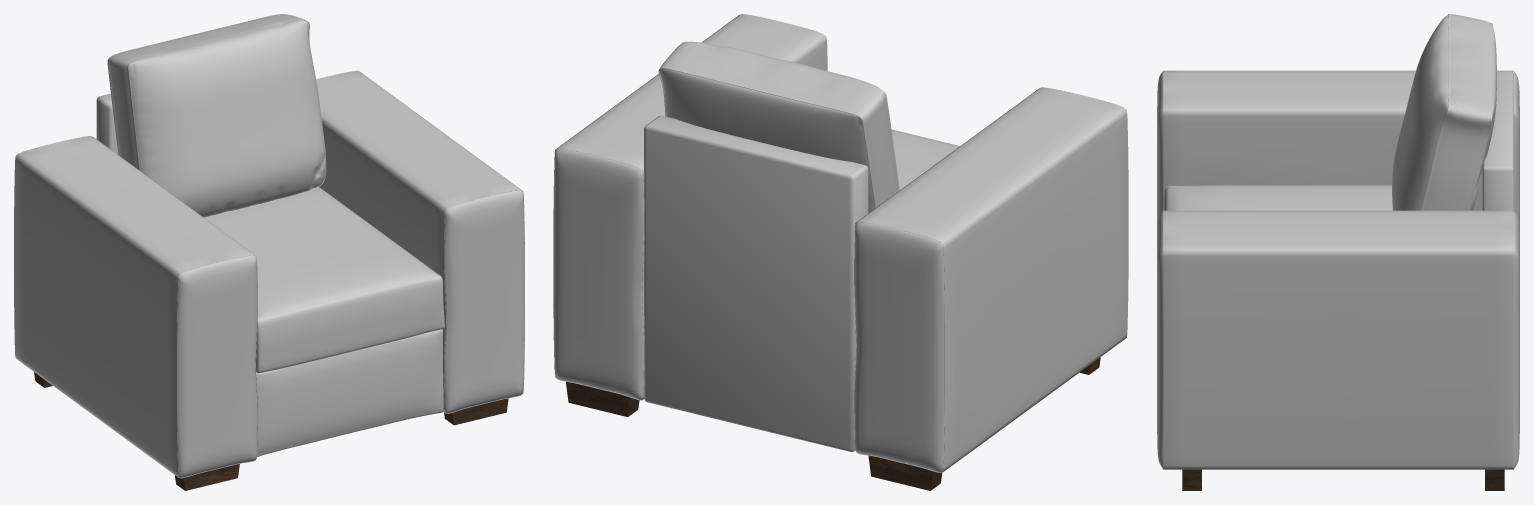
Rendered from Tapicerk_i_krzesla_fotel_lars.obj.
3 views of the same model, side by side, from view 1: azimuth 30°, elevation 25°; view 2: azimuth 150°, elevation 25°; view 3: azimuth 270°, elevation 25° (orthographic). The views are drawn at different scales.
Visible parts, largest first — view 1: Object011, Object002, Plane003, Object006, Box006, Box02, ChamferBox02; view 2: Object011, ChamferBox02, Object002, Plane003, Box02, Object006; view 3: Object002, Object011, Plane003, Object006, ChamferBox02, Box02.
Boxes of the visible parts, x1,y1,x2,y2 form: Object011: [14, 136, 257, 478]; Object002: [316, 70, 524, 413]; Plane003: [107, 14, 326, 217]; Object006: [204, 187, 444, 373]; Box006: [256, 329, 443, 456]; Box02: [34, 372, 508, 490]; ChamferBox02: [96, 93, 118, 154]; Object011: [854, 87, 1128, 472]; ChamferBox02: [644, 115, 868, 451]; Object002: [553, 14, 827, 400]; Plane003: [658, 41, 899, 212]; Box02: [566, 357, 1100, 490]; Object006: [891, 129, 959, 189]; Object002: [1157, 210, 1519, 469]; Object011: [1157, 70, 1519, 246]; Plane003: [1392, 14, 1496, 210]; Object006: [1162, 185, 1392, 210]; ChamferBox02: [1482, 71, 1513, 210]; Box02: [1182, 469, 1504, 490].
Bounding box in the file's own units: 101 × 89.83 × 85.2.
